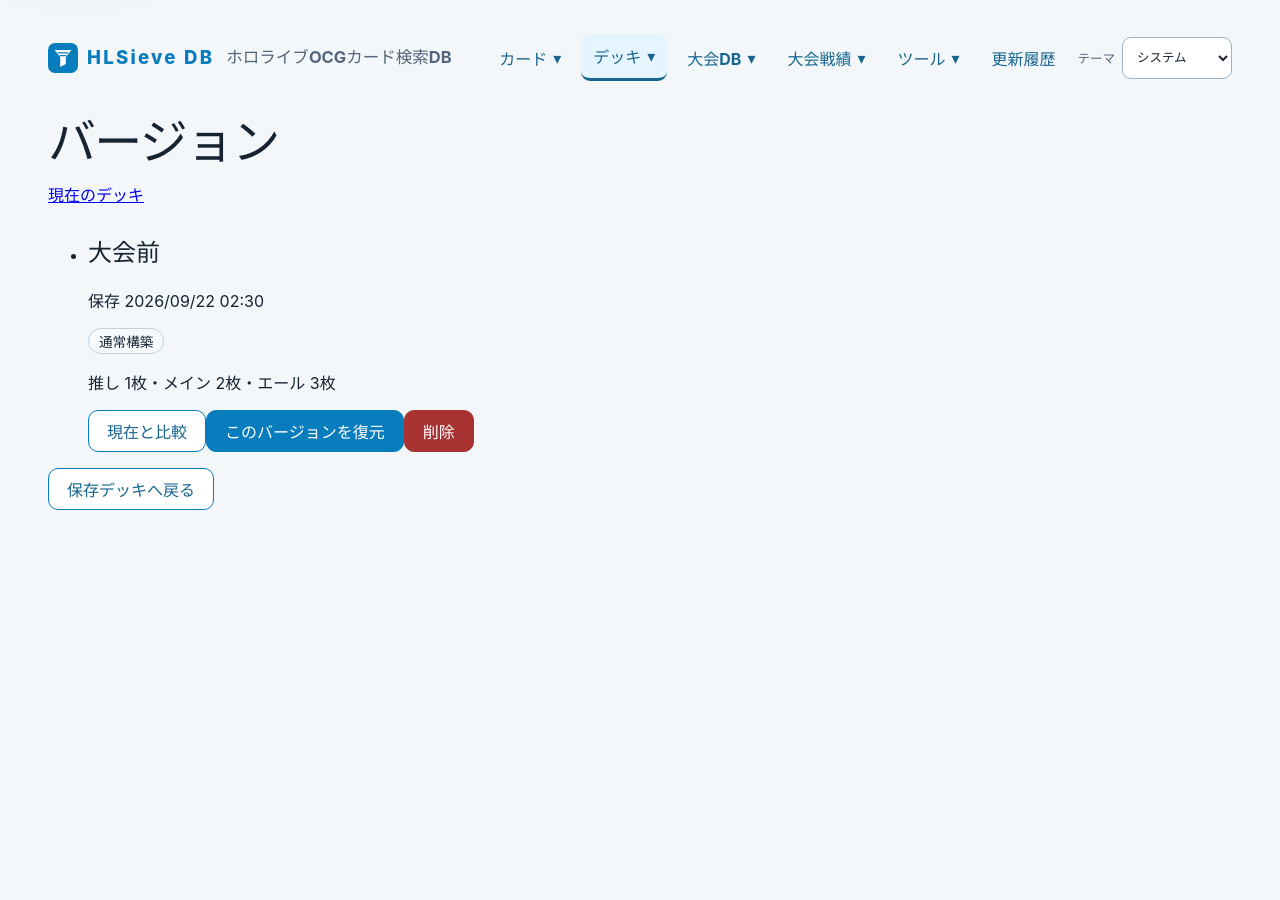
Scenario: putting a snapshot back › asks before doing anything
Check: the heading "大会前" is shown, box [88,238,160,267]
Click the button "このバージョンを復元". click: (305, 430)
box: [206,410,404,452]
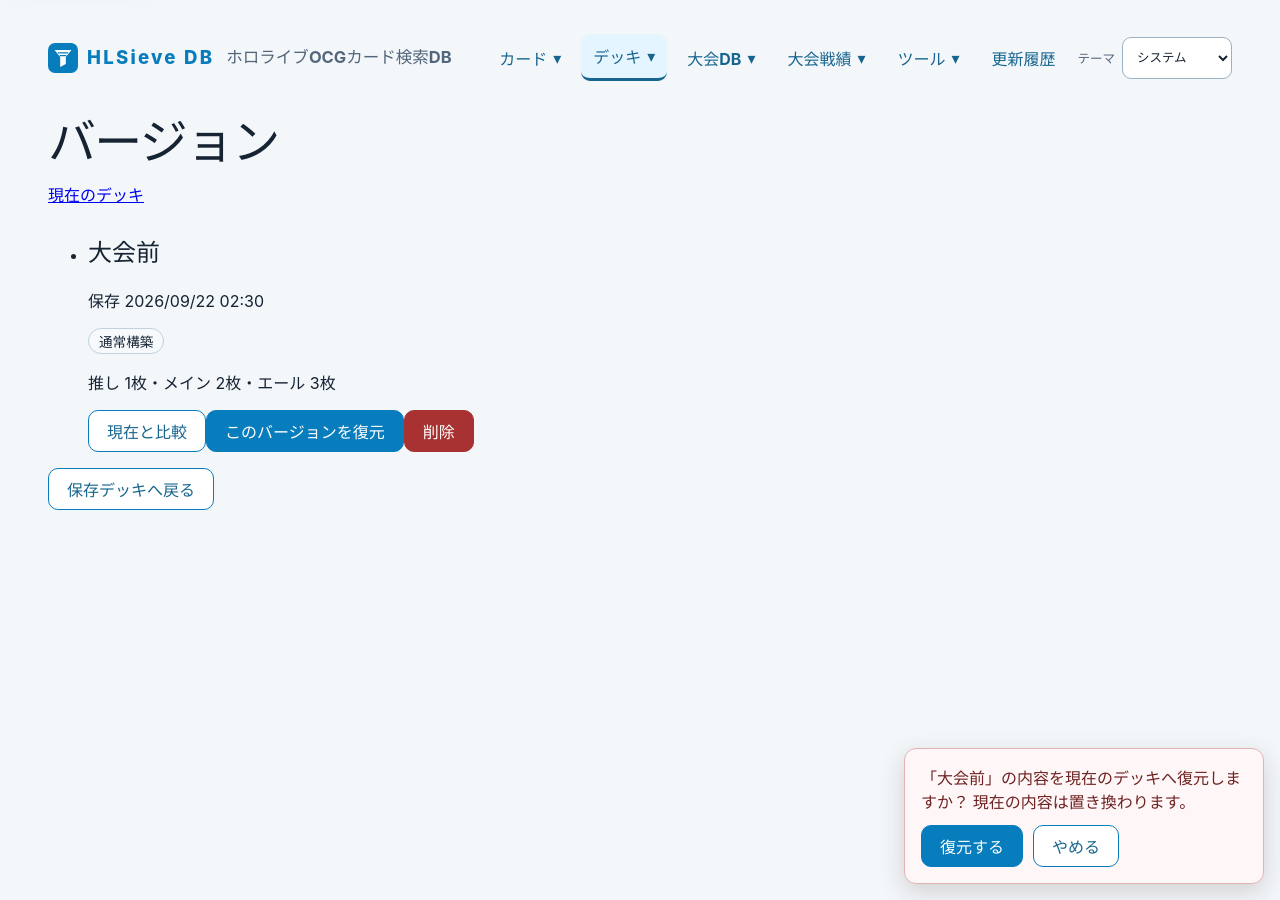
Check: the dialog named "バージョン復元の確認" is shown, box [904,748,1264,884]
